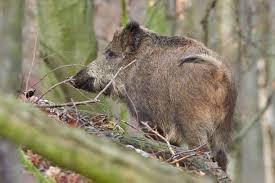Hog: (65, 20, 238, 171)
